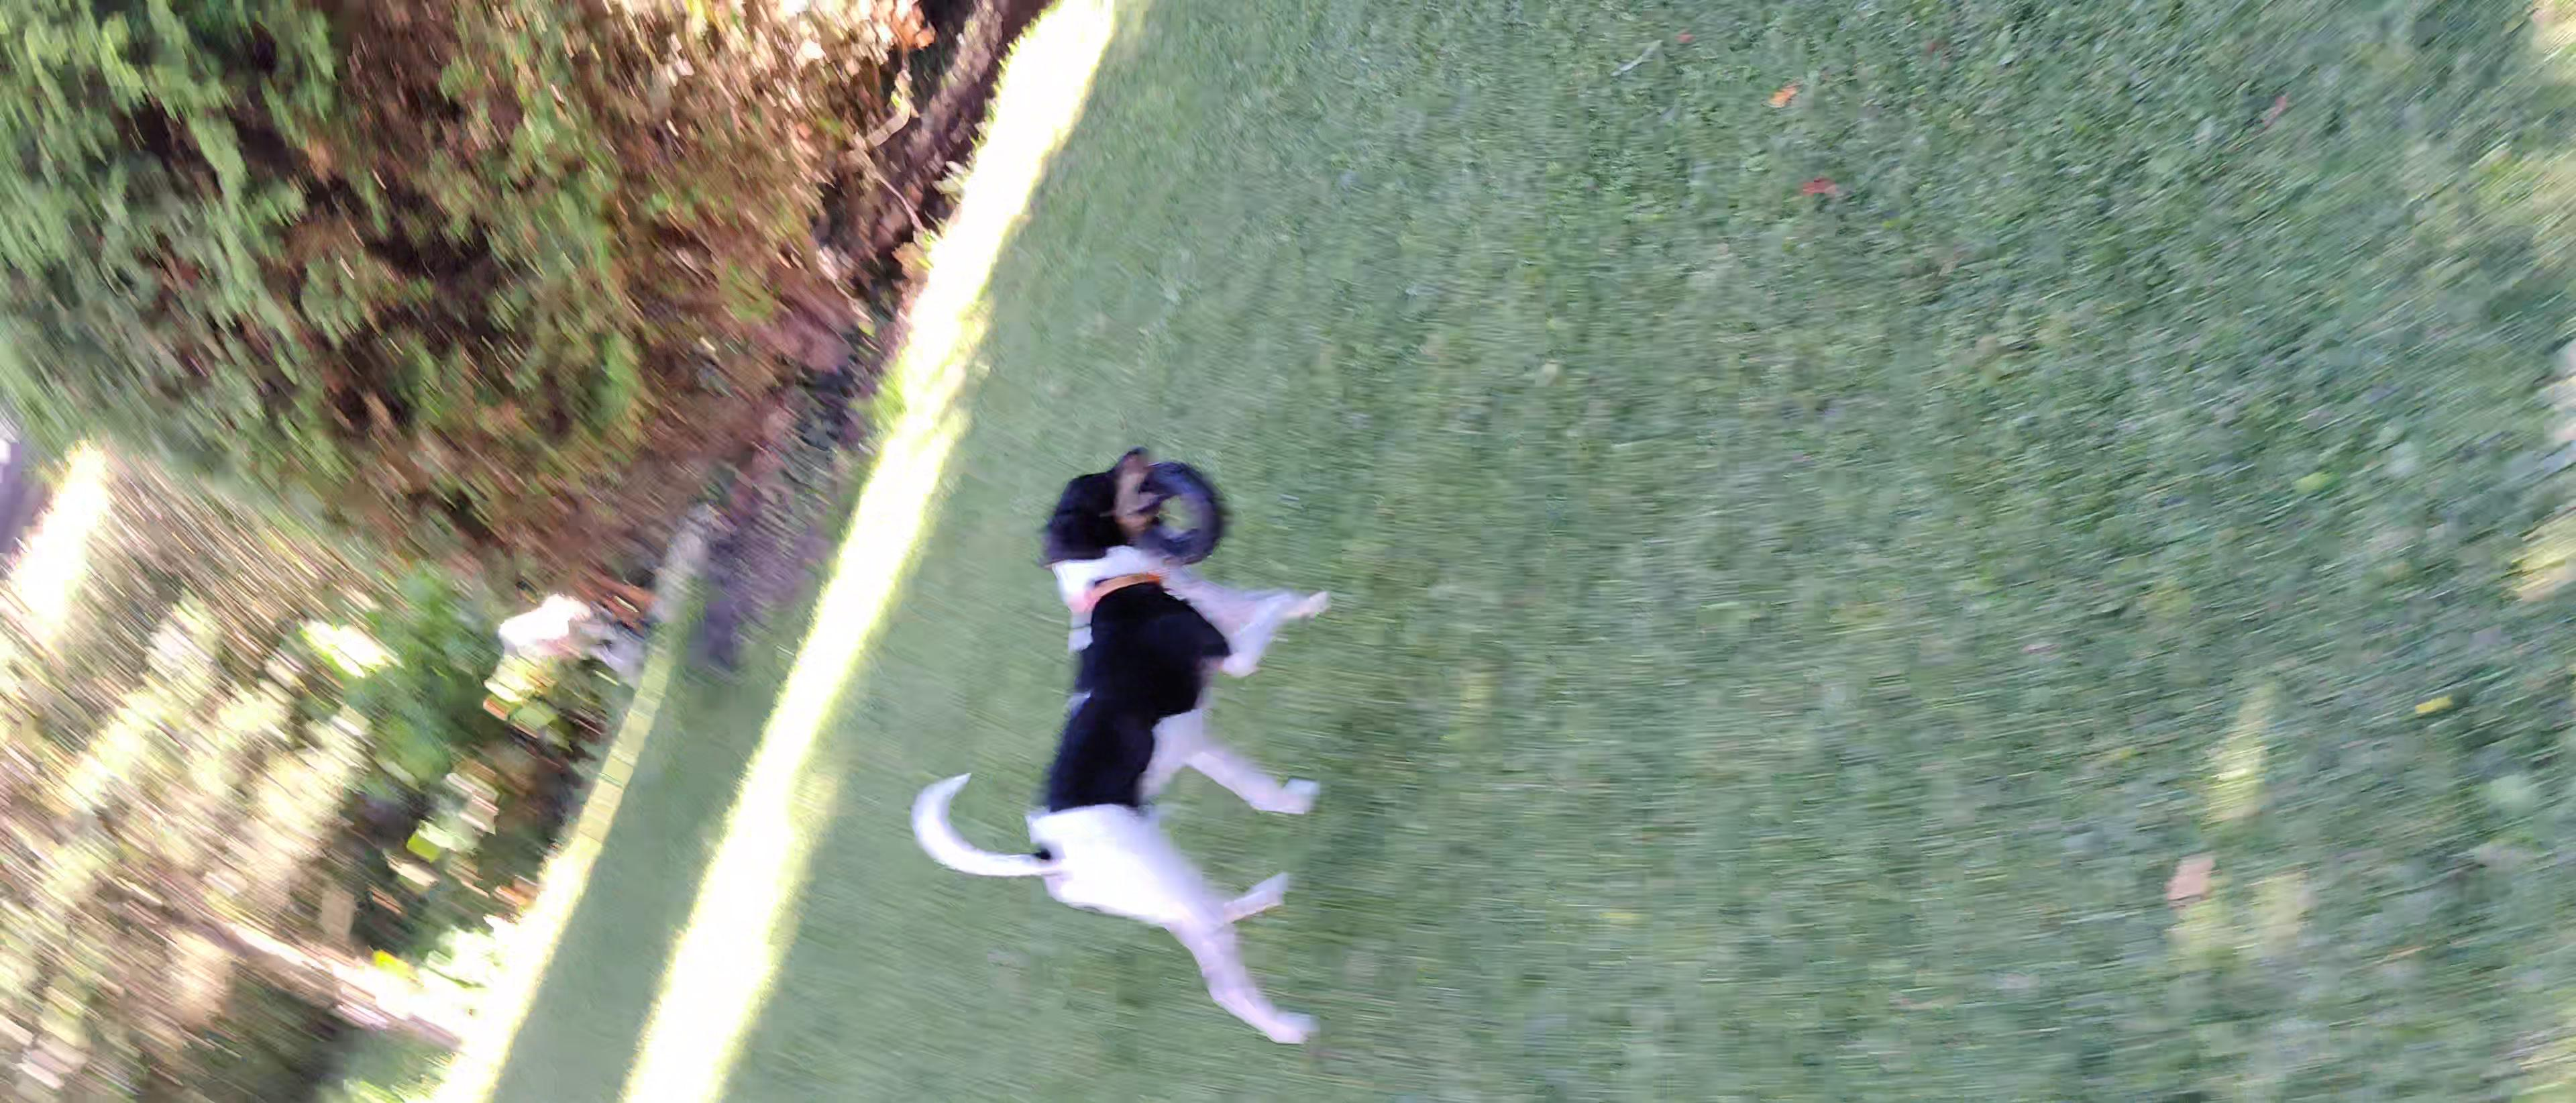Dog: (887, 421, 1352, 1052)
